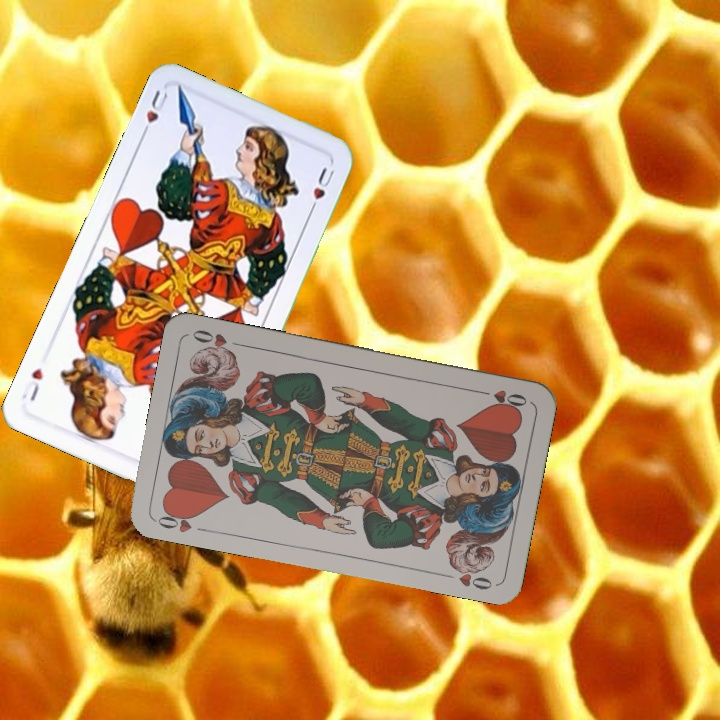HO: (153, 504, 211, 536), (472, 385, 530, 411)
HU: (136, 86, 172, 141)
